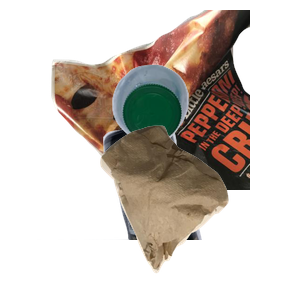glass: (37, 120, 231, 300)
paper: (49, 10, 289, 190)
plastic: (110, 62, 300, 198)
trash: (98, 123, 300, 300)
